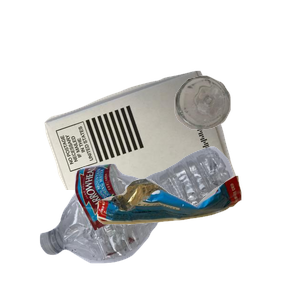glass: (172, 73, 300, 195)
paper: (42, 68, 275, 248)
plastic: (37, 144, 265, 300)
trash: (94, 173, 300, 300)
